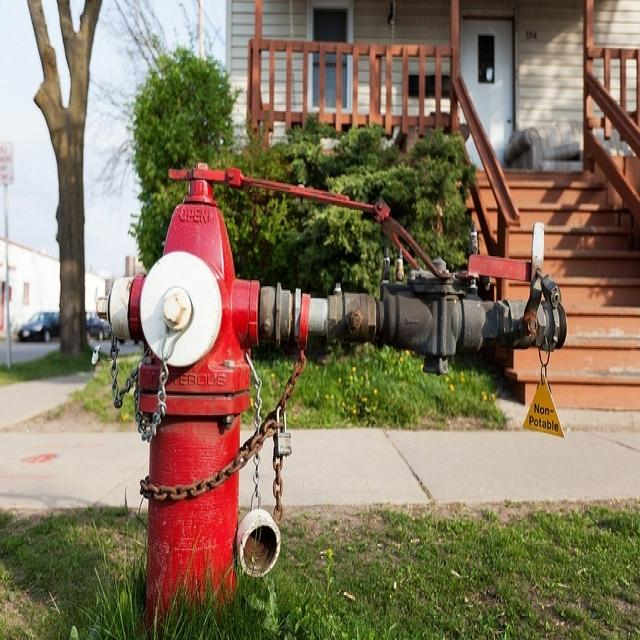fire_hydrant: (114, 123, 557, 617)
